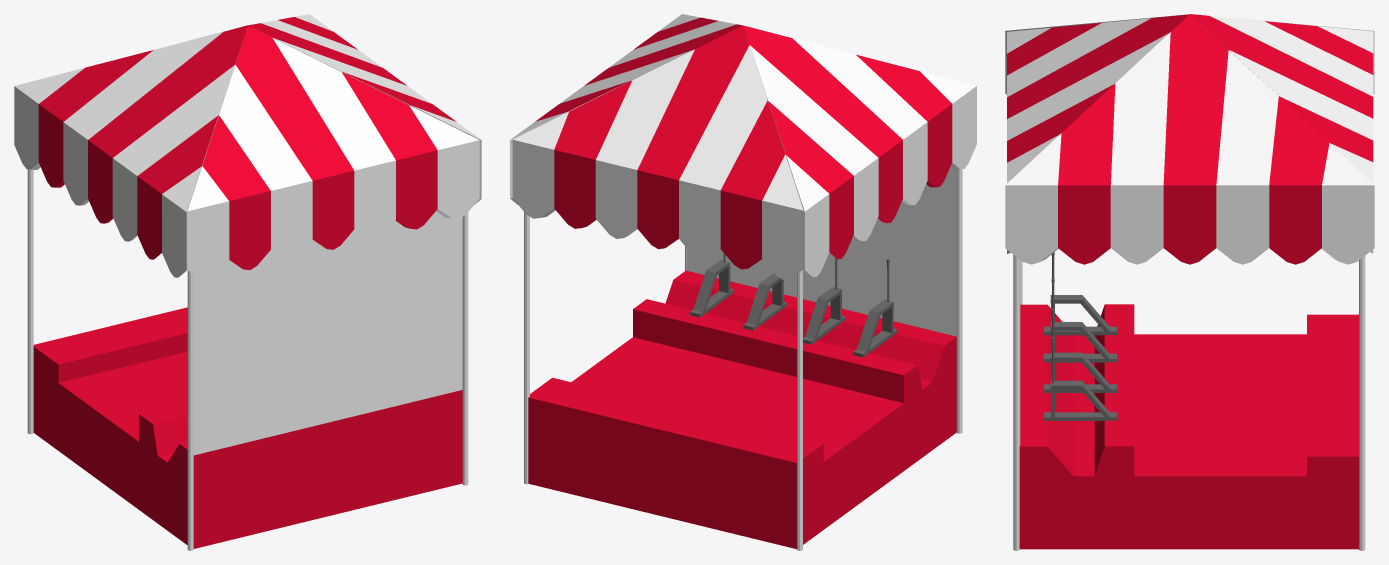
The model's file is SM_WaterGame_Tent.fbx.
3 renders of one model, left to right at view 1: azimuth 30°, elevation 25°; view 2: azimuth 150°, elevation 25°; view 3: azimuth 270°, elevation 25°, orthographic. The views are drawn at different scales.
Parts seen in each view (by area): view 1: SM_WaterGame_Tent; view 2: SM_WaterGame_Tent; view 3: SM_WaterGame_Tent.
Part boxes in pixels (x1=…): SM_WaterGame_Tent: x1=14, y1=14, x2=481, y2=550; SM_WaterGame_Tent: x1=510, y1=14, x2=976, y2=550; SM_WaterGame_Tent: x1=1005, y1=14, x2=1374, y2=550.
Size of the model in its own units: 214 by 301 by 217.
Materials: 1 (1 with a texture image).
